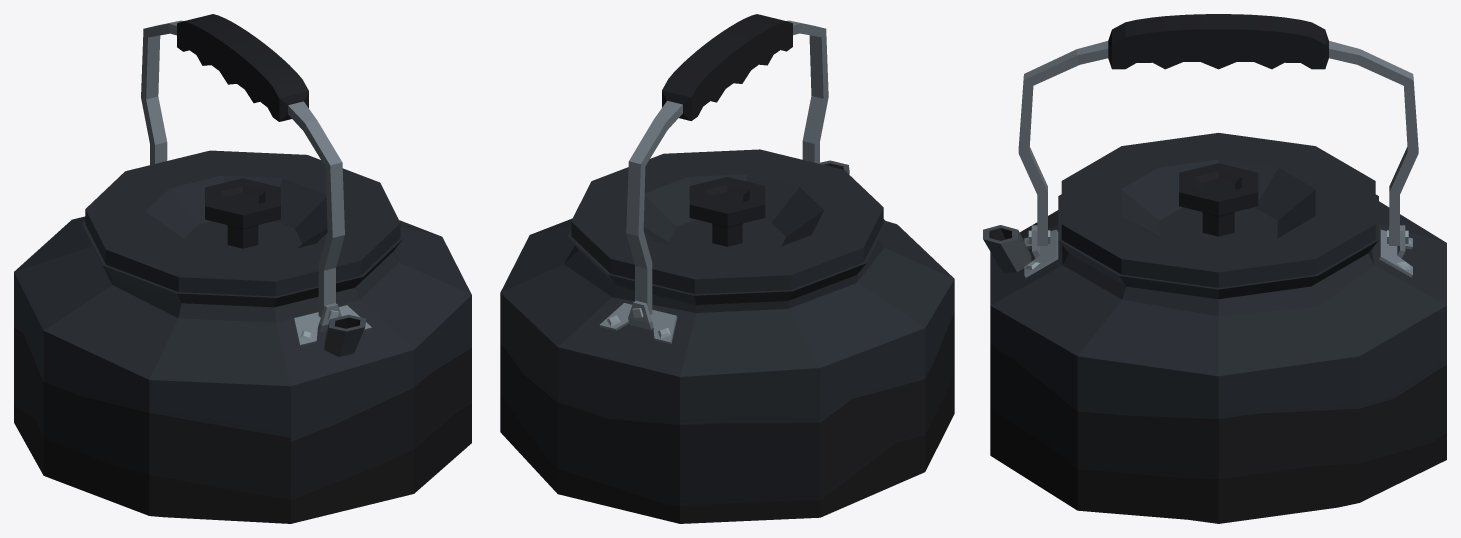
Rendered from SM_Kettle.fbx.
The picture shows the model from 3 angles, left to right: view 1: azimuth 30°, elevation 25°; view 2: azimuth 150°, elevation 25°; view 3: azimuth 270°, elevation 25°; orthographic projection. The views are drawn at different scales.
Parts seen in each view (by area): view 1: SM_Kettle, SM_Kettle_Lid, SM_Kettle_Handle; view 2: SM_Kettle, SM_Kettle_Lid, SM_Kettle_Handle; view 3: SM_Kettle, SM_Kettle_Lid, SM_Kettle_Handle.
Boxes of the visible parts, x1,y1,x2,y2 form: SM_Kettle: [14, 216, 471, 523]; SM_Kettle_Lid: [85, 150, 400, 296]; SM_Kettle_Handle: [141, 14, 344, 317]; SM_Kettle: [500, 160, 954, 523]; SM_Kettle_Lid: [571, 149, 883, 294]; SM_Kettle_Handle: [626, 14, 828, 314]; SM_Kettle: [983, 194, 1446, 523]; SM_Kettle_Lid: [1061, 132, 1375, 287]; SM_Kettle_Handle: [1018, 14, 1418, 245].
Size of the model in its own units: 41.93 by 40.16 by 40.51.
